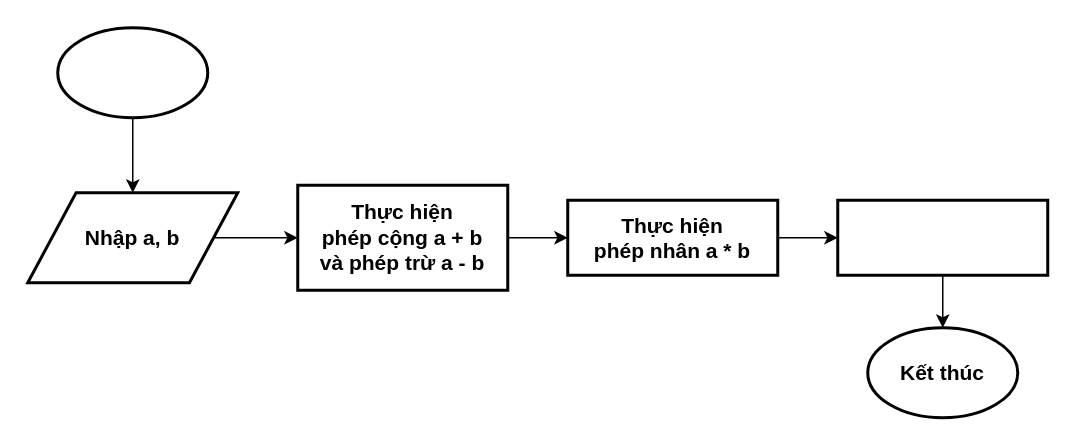
This 1074x444 diagram has some shape labels left out. The box of each missing label's shape, as (x1, y1, x2, y2) in pixels:
Bắt đầu: (56, 26, 208, 118)
Thực hiện phép chia a / b: (836, 198, 1048, 276)
